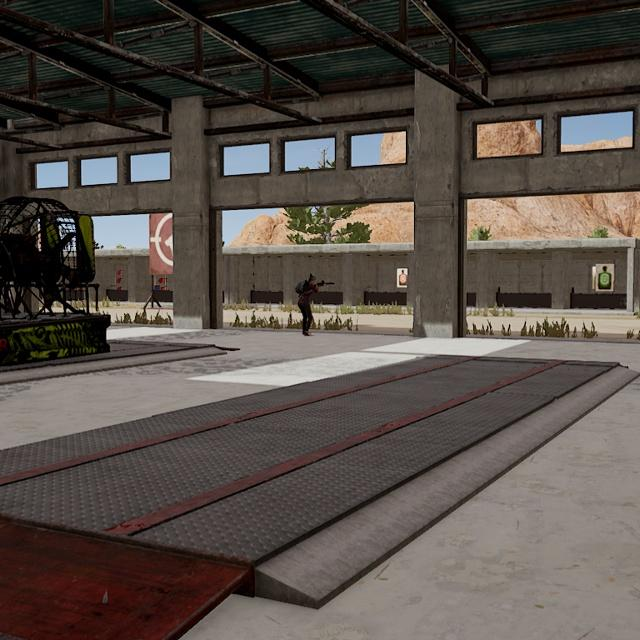head: (307, 274, 318, 286)
people: (297, 273, 319, 337)
